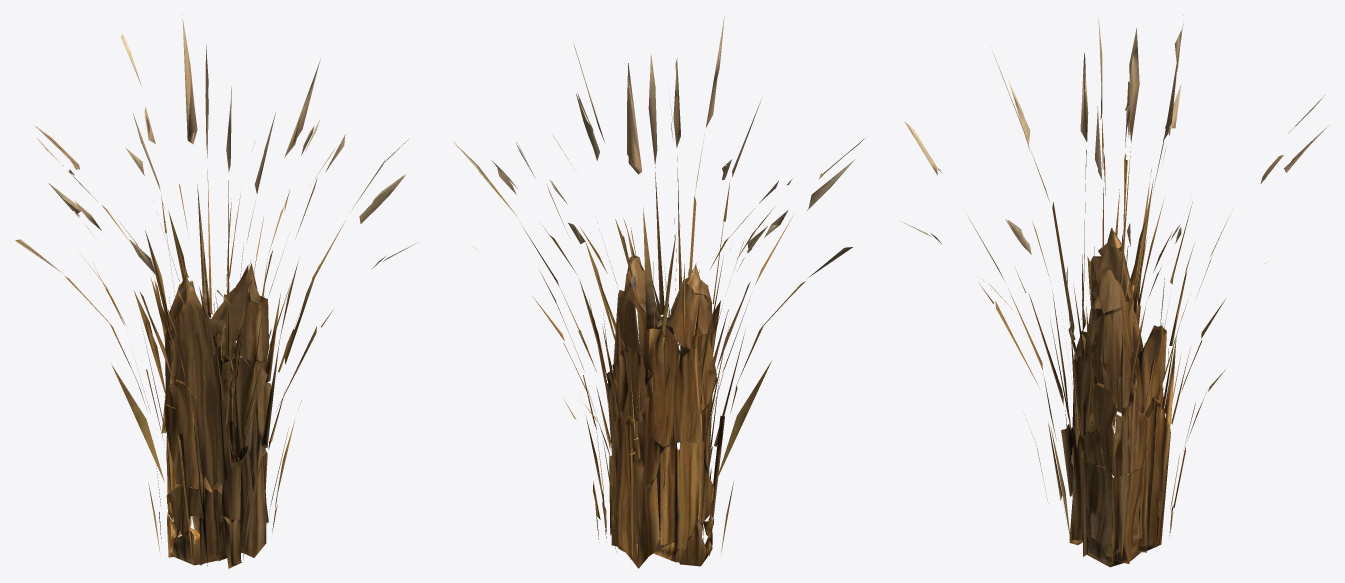
Rendered from dry-grass.glb.
3 views of the same model, side by side, from view 1: azimuth 30°, elevation 25°; view 2: azimuth 150°, elevation 25°; view 3: azimuth 270°, elevation 25° (orthographic). The views are drawn at different scales.
Parts seen in each view (by area): view 1: model; view 2: model; view 3: model.
Boxes of the visible parts, x1,y1,x2,y2 form: model: [15, 14, 418, 568]; model: [453, 16, 864, 568]; model: [901, 15, 1328, 567].
Bounding box in the file's own units: 0.8054 × 1 × 0.7373.
1 material, 1 textured.
